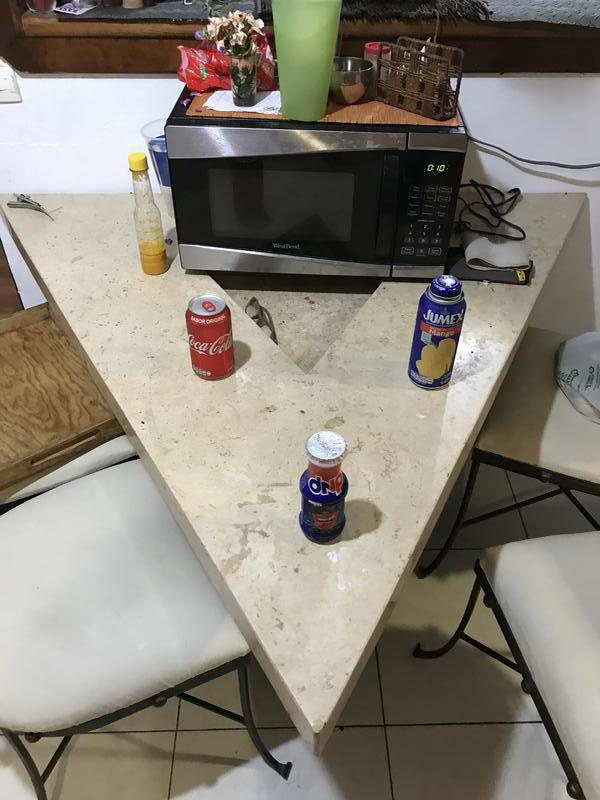coca_cola: (185, 295, 239, 383)
danup: (300, 437, 351, 543)
jugo_jumex: (412, 277, 466, 393)
